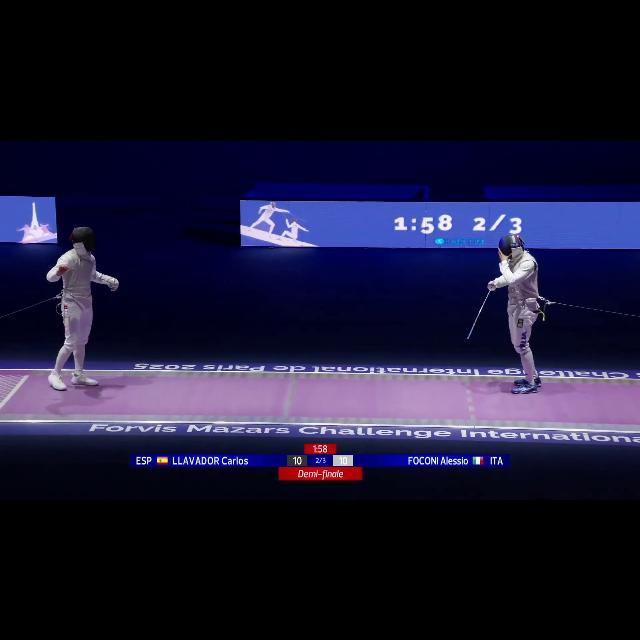blade: (464, 282, 498, 340), (57, 261, 119, 291)
